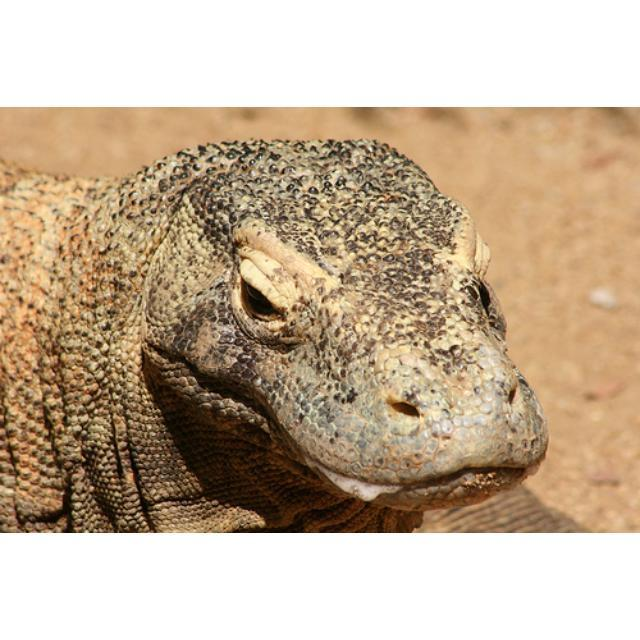KomodoDragon: (0, 136, 544, 531)
